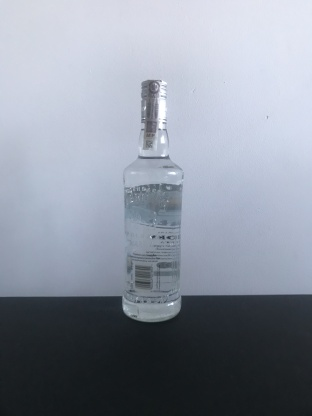nakretka: (138, 75, 169, 126)
